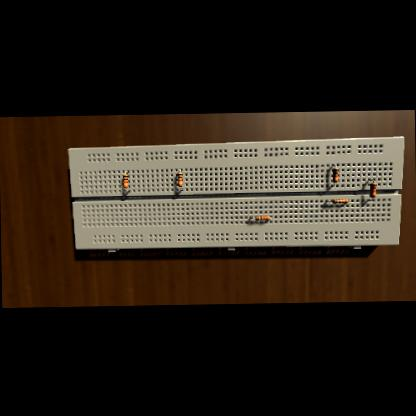breadboard: (68, 136, 406, 254)
resistor: (369, 182, 376, 196), (332, 166, 338, 182), (123, 174, 128, 188), (332, 198, 348, 202), (178, 172, 182, 186), (255, 215, 269, 219)
wire: (368, 178, 374, 182), (330, 182, 334, 186), (126, 187, 130, 190), (367, 197, 373, 199), (249, 215, 254, 217), (332, 164, 336, 166), (124, 170, 128, 172), (180, 168, 182, 171), (180, 186, 182, 189), (269, 216, 271, 218)
